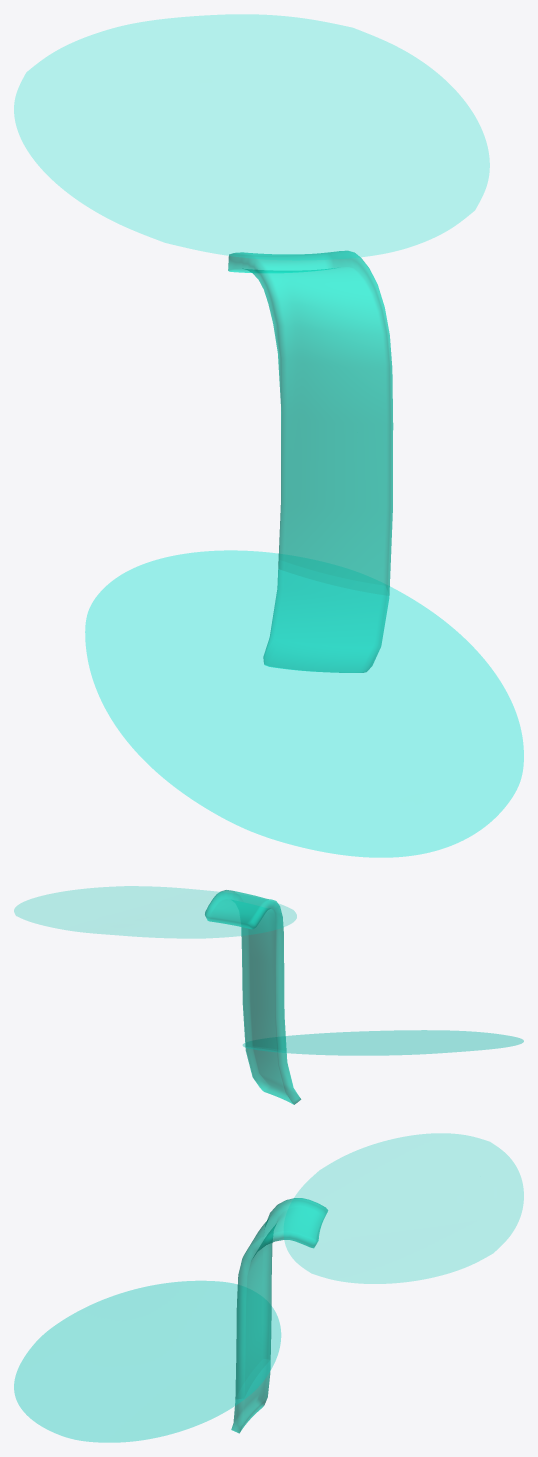
The model's file is Water 1.fbx.
3 views of the same model, one above another, from view 1: azimuth 30°, elevation 25°; view 2: azimuth 150°, elevation 25°; view 3: azimuth 270°, elevation 25° (orthographic). The views are drawn at different scales.
Visible parts, largest first — view 1: Plane.009, Plane.008, Plane.010; view 2: Plane.008, Plane.010, Plane.009; view 3: Plane.009, Plane.008, Plane.010.
Boxes of the visible parts, x1,y1,x2,y2 form: Plane.009: (85, 550, 523, 857); Plane.008: (14, 14, 489, 260); Plane.010: (228, 250, 393, 672); Plane.008: (14, 886, 296, 938); Plane.010: (205, 890, 301, 1104); Plane.009: (243, 1030, 523, 1055); Plane.009: (14, 1281, 280, 1442); Plane.008: (284, 1133, 523, 1283); Plane.010: (231, 1198, 327, 1433).
Size of the model in its own units: 2.1 by 1.6 by 2.78.
